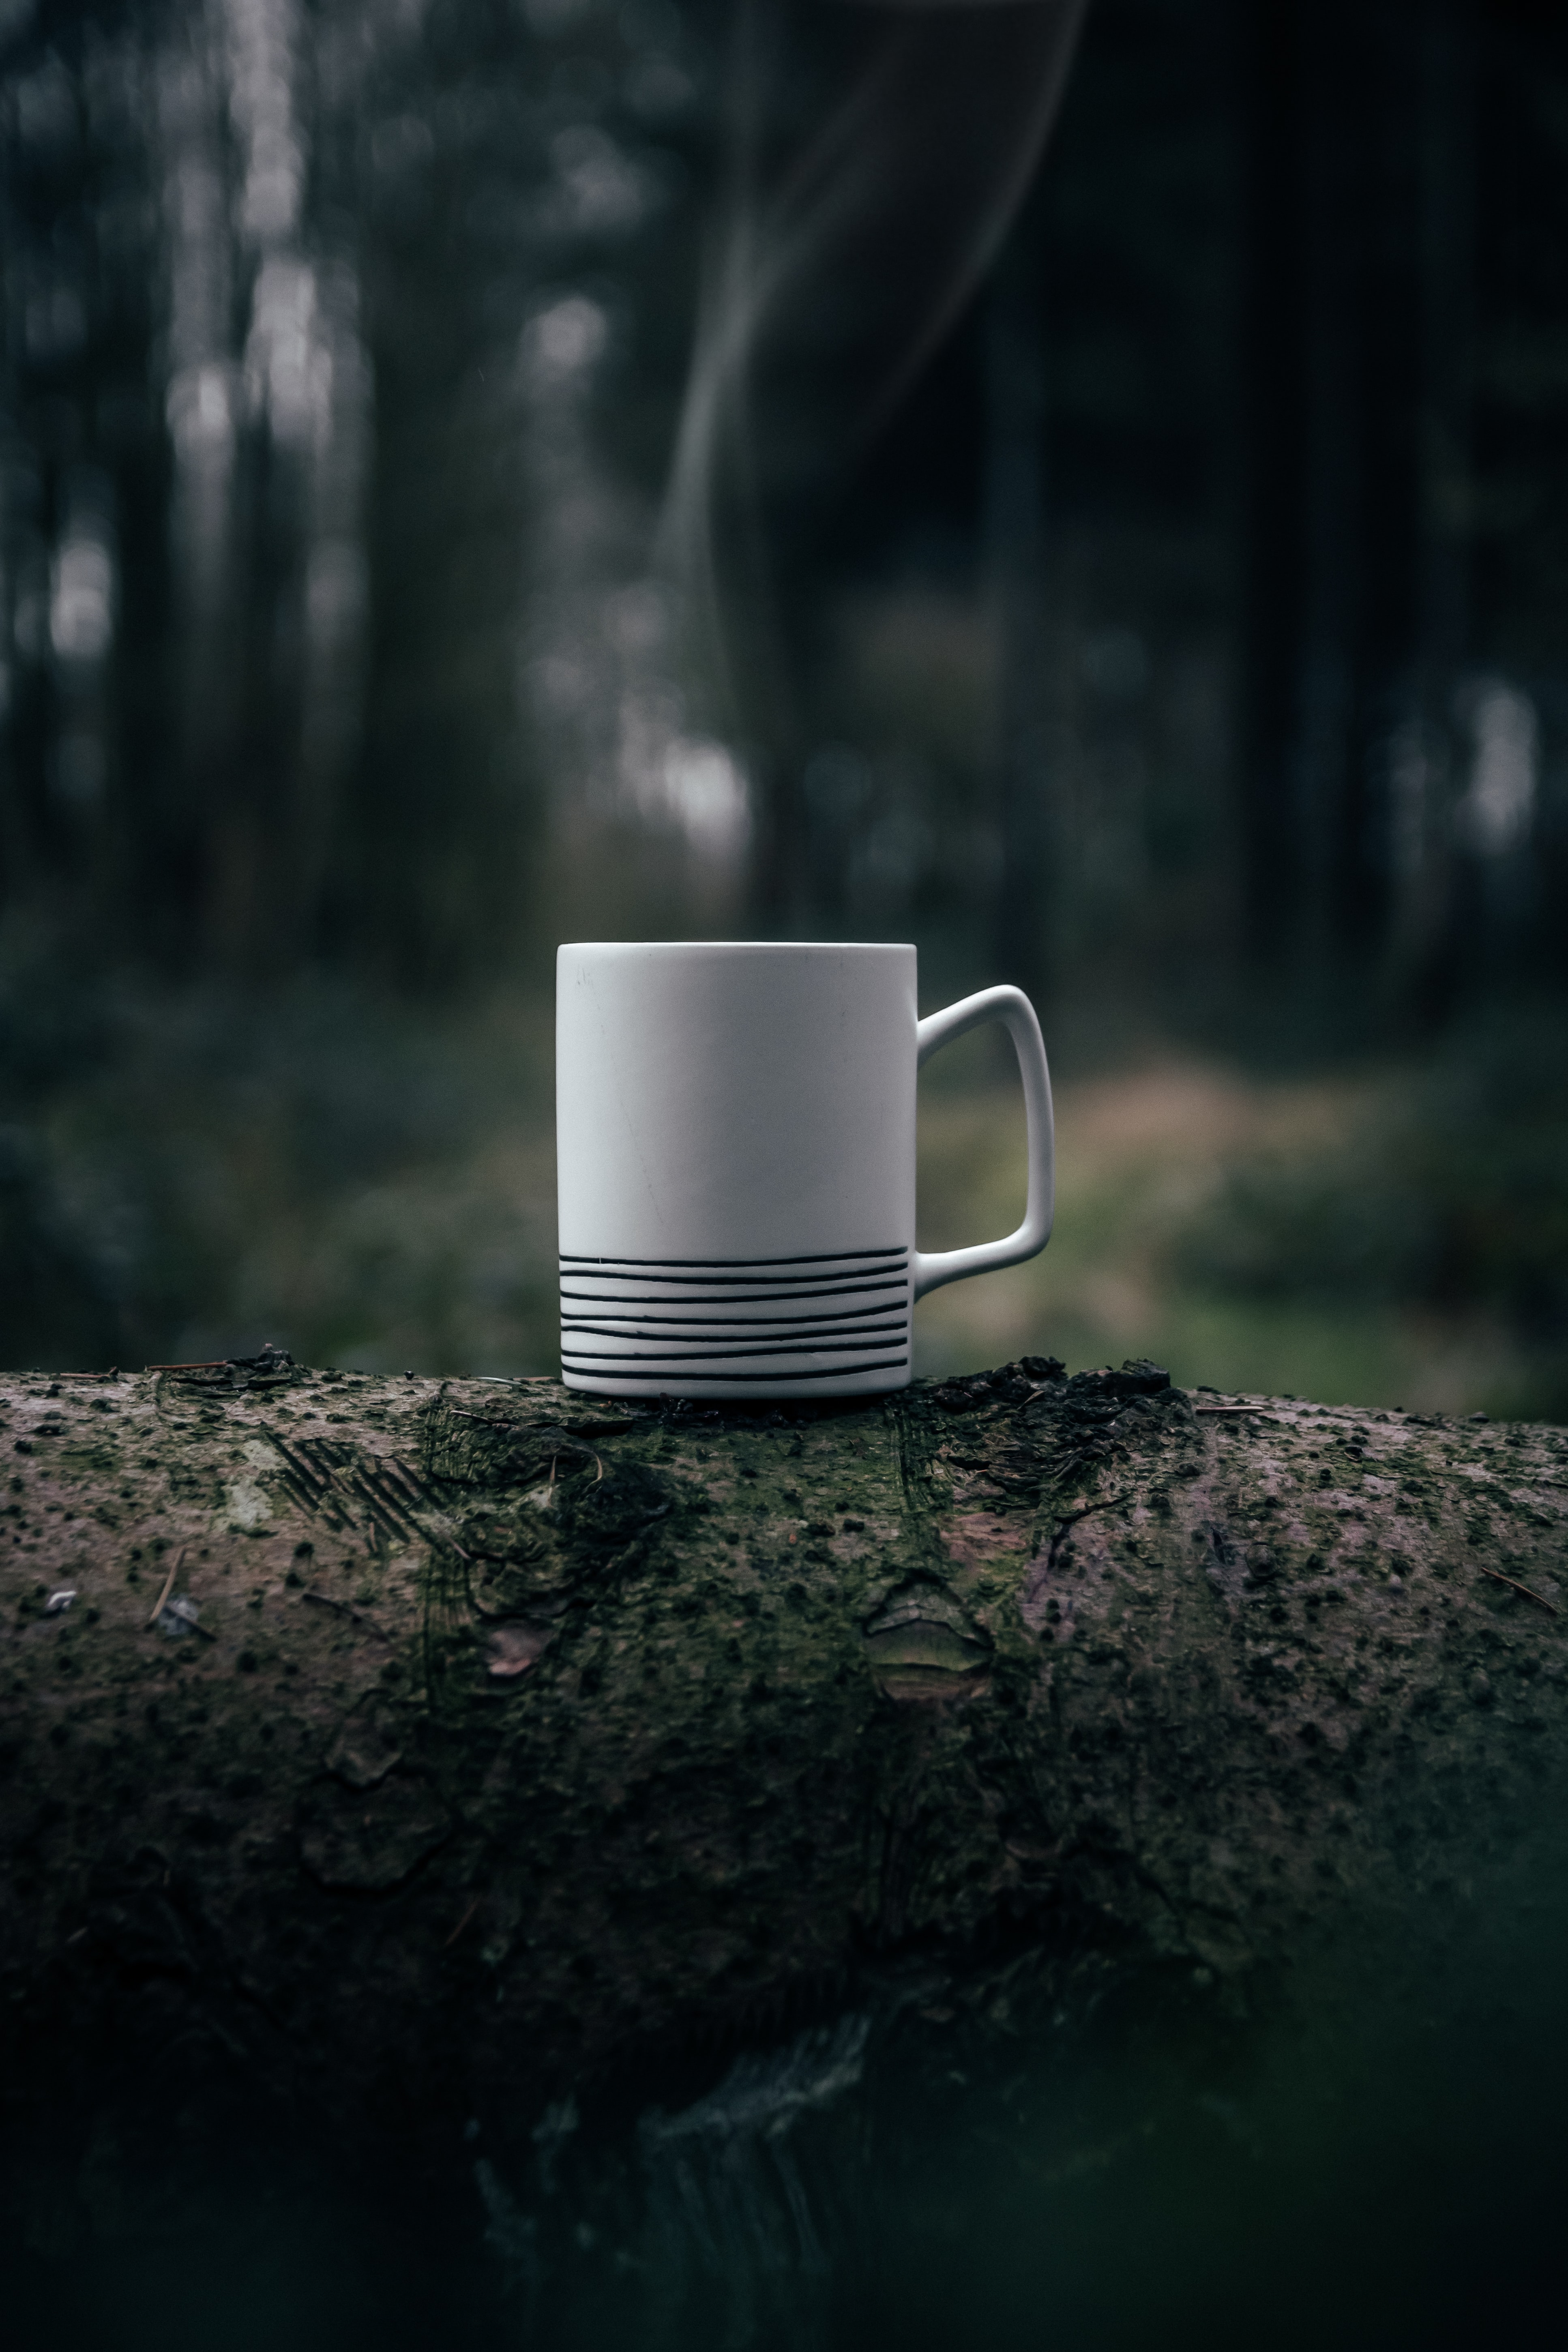cup: (546, 941, 1053, 1395)
